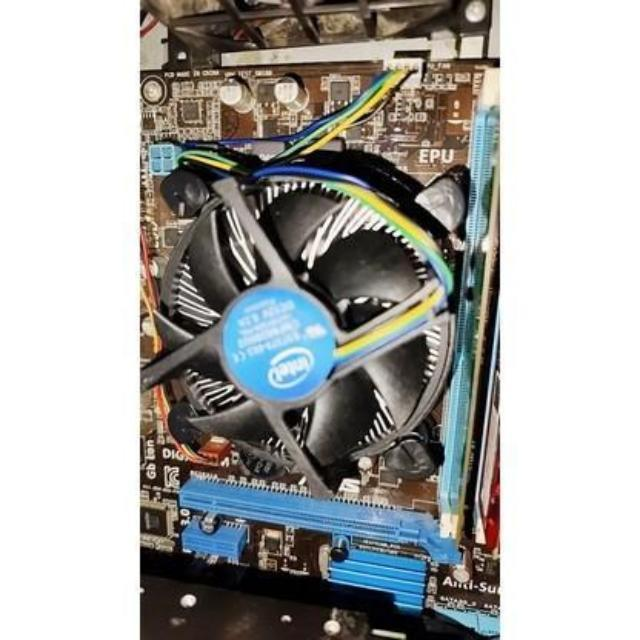CPU_Fan: (162, 152, 454, 480)
